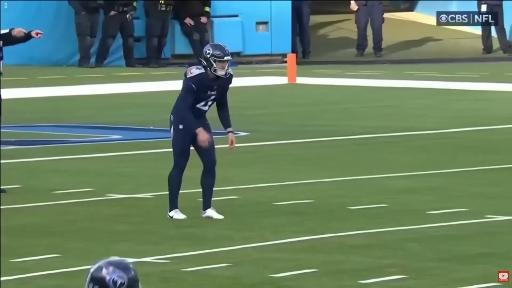Helmet: (86, 257, 141, 287), (200, 43, 231, 77)
Jersey: (172, 66, 232, 130)
Player: (168, 43, 235, 219), (85, 257, 141, 287)
